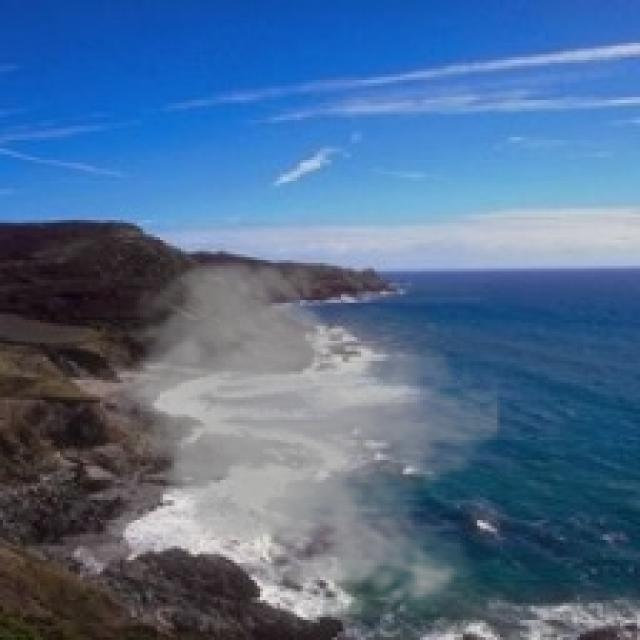smoke: (106, 252, 503, 614)
